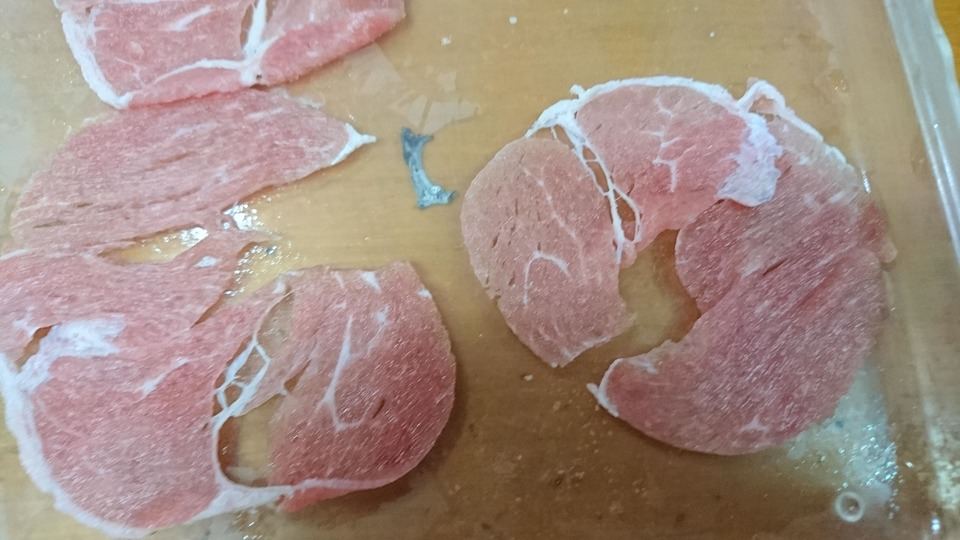restructured meat: (6, 105, 450, 522), (465, 64, 880, 464), (48, 2, 412, 93)
